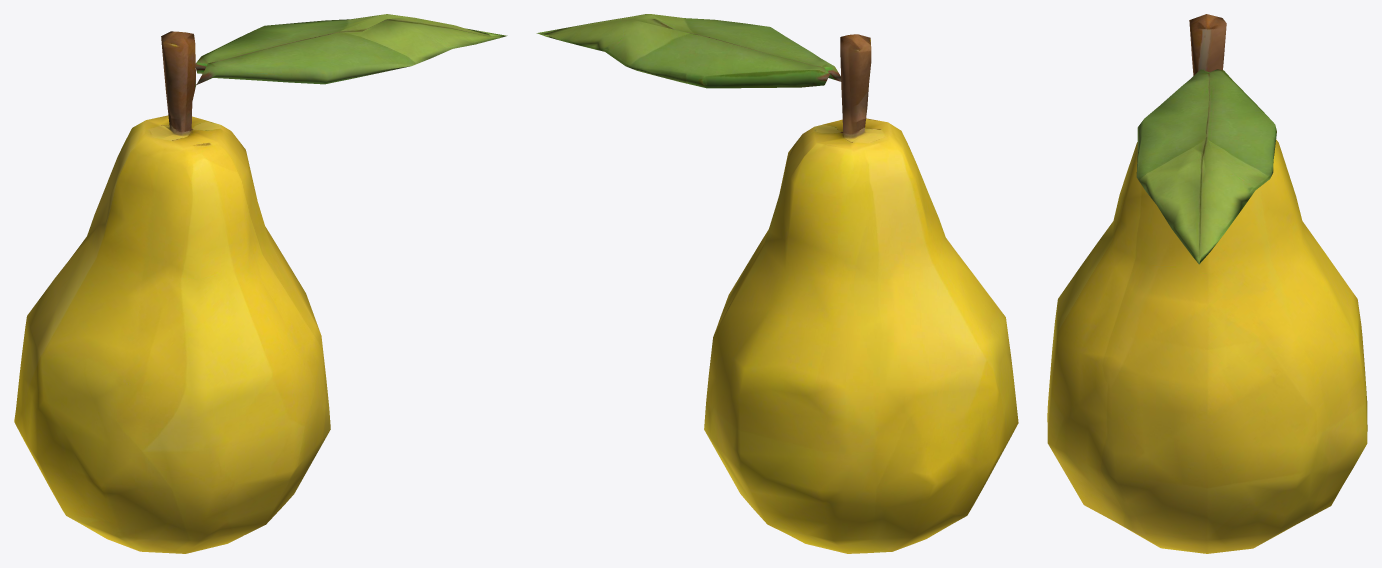
File: grucha_blender_1k_2.glb
The picture shows the model from 3 angles, left to right: view 1: azimuth 30°, elevation 25°; view 2: azimuth 150°, elevation 25°; view 3: azimuth 270°, elevation 25°; orthographic projection. The views are drawn at different scales.
Visible parts, largest first — view 1: Mesh1; view 2: Mesh1; view 3: Mesh1.
Part boxes in pixels (x1,y1,x2,y2): Mesh1: (14, 14, 507, 553); Mesh1: (536, 14, 1018, 553); Mesh1: (1047, 14, 1367, 553).
Size of the model in its own units: 1.92 by 1.97 by 1.09.
1 material, 1 textured.
